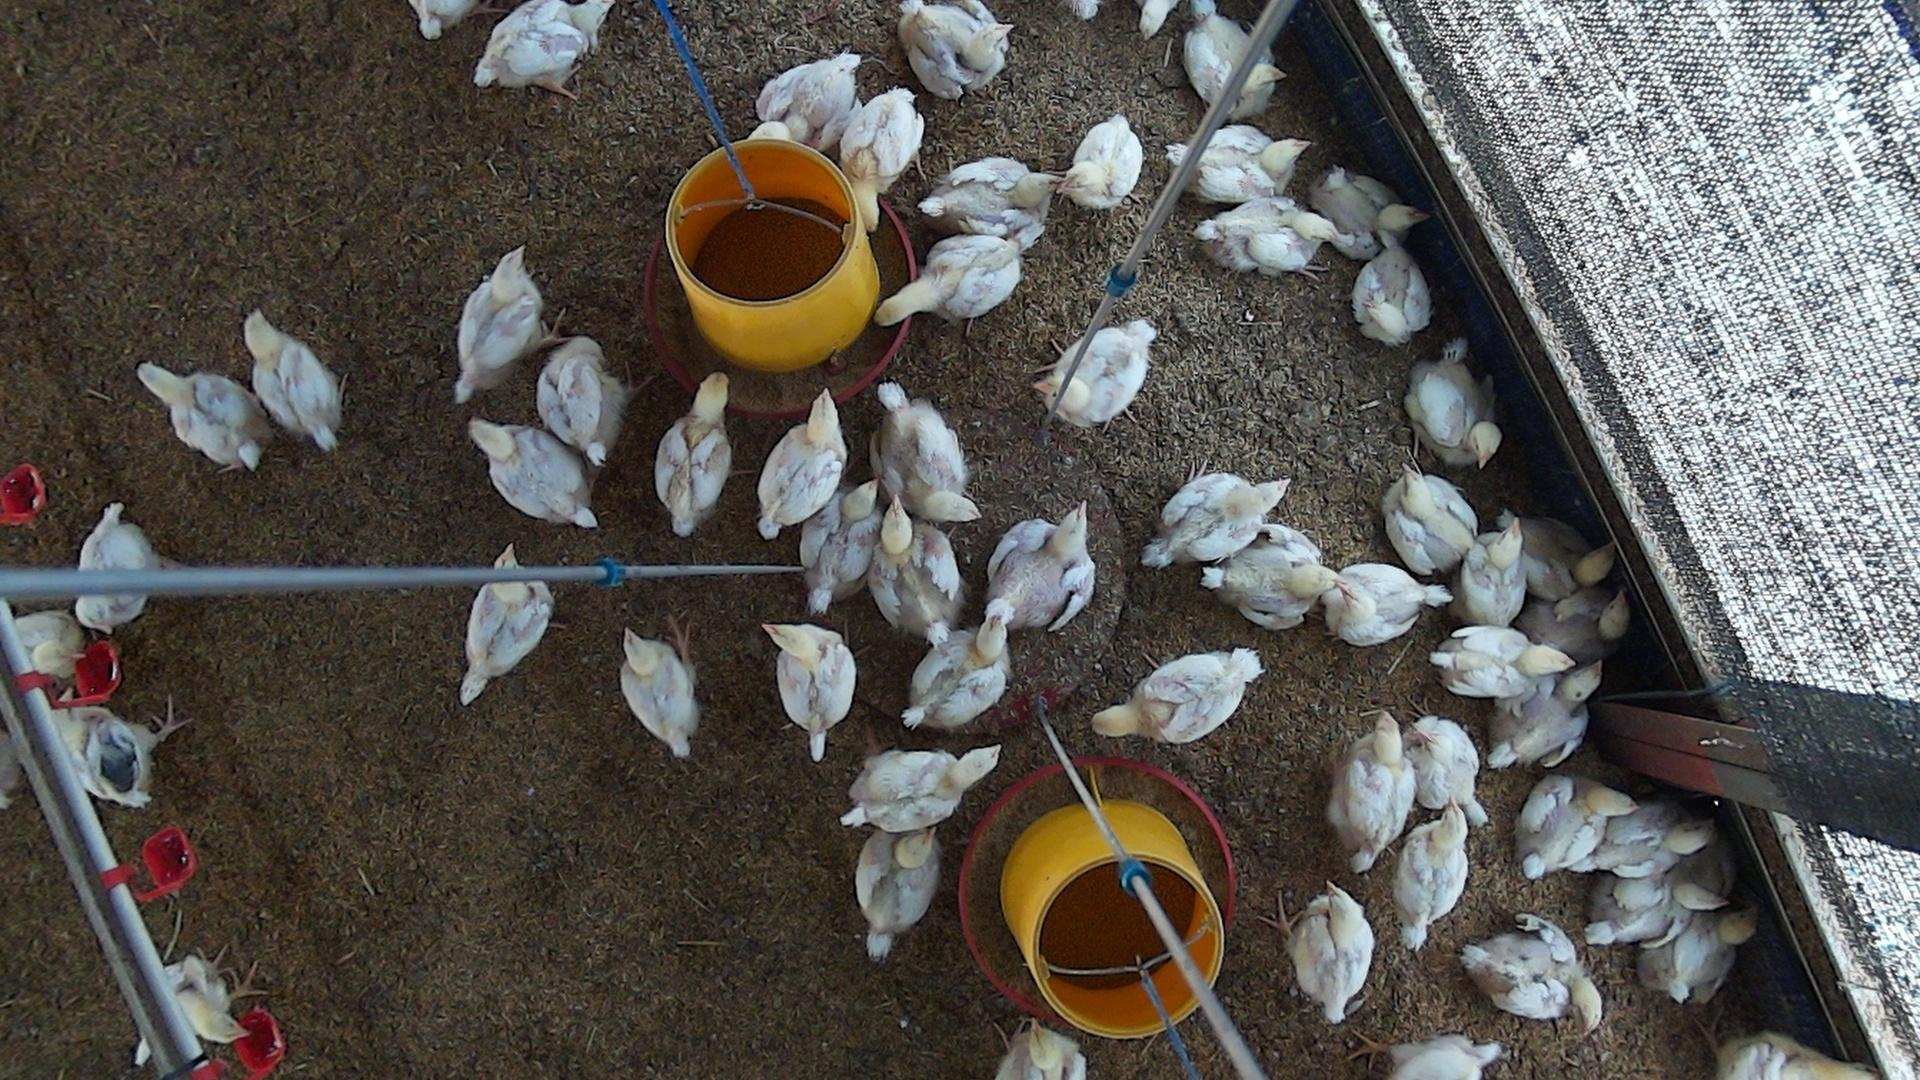ayam_broiler: (53, 688, 194, 808), (1093, 647, 1262, 742), (465, 414, 597, 529), (874, 381, 981, 522), (1201, 522, 1341, 629), (1462, 918, 1601, 1025), (1328, 709, 1416, 870), (868, 498, 963, 647), (876, 231, 1030, 322), (984, 505, 1095, 630), (456, 245, 543, 404), (1143, 471, 1288, 566), (245, 309, 343, 450), (902, 603, 1013, 727), (757, 386, 847, 538), (138, 361, 265, 467), (843, 746, 998, 832), (654, 373, 735, 537), (765, 622, 857, 761), (916, 156, 1056, 245), (1036, 319, 1155, 425), (1406, 339, 1501, 469), (473, 0, 609, 90), (537, 335, 629, 464), (1287, 887, 1374, 1022), (749, 50, 861, 153), (73, 501, 160, 633), (462, 579, 554, 703), (895, 0, 1011, 96), (1183, 0, 1274, 123), (835, 87, 924, 211), (1394, 804, 1470, 949), (1489, 667, 1601, 766), (1196, 195, 1337, 273), (800, 479, 881, 613), (856, 829, 940, 957), (1312, 167, 1423, 264), (1383, 465, 1478, 576), (1518, 778, 1621, 877), (621, 626, 699, 757), (1429, 625, 1572, 696), (1576, 800, 1713, 874), (1324, 564, 1449, 645), (1582, 874, 1727, 943), (1651, 909, 1755, 1002), (165, 949, 269, 1042), (1353, 231, 1431, 344), (1193, 124, 1303, 203), (1407, 716, 1482, 825), (1062, 113, 1142, 208), (1518, 516, 1611, 596), (1527, 591, 1627, 665), (1461, 516, 1526, 625), (1, 603, 82, 678), (998, 1022, 1087, 1080), (1390, 1034, 1503, 1079)
